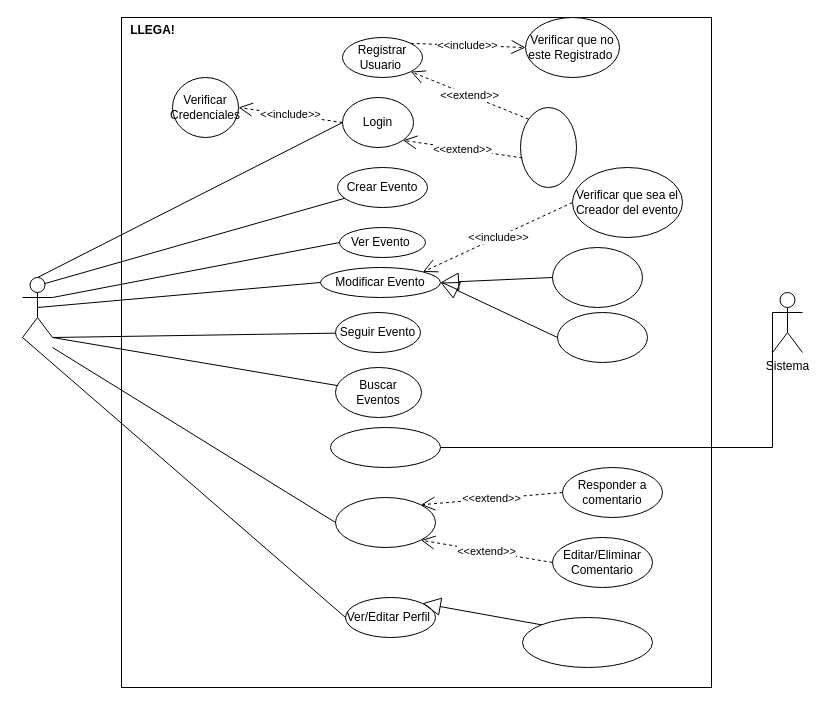
The diagram is 826 pixels wide and 705 high, and some of its shapes have lost their labels. The shapes that lost their labels are listed below. From the top down, each one's centre as x and y in pixels, then its label:
(548,147): Mostrar Mensaje Error
(597,277): Eliminar/Editar Evento
(37,307): Usuario
(602,337): Anadir fotos a evento
(385,447): Notificar Evento
(385,522): Comentar en Evento
(587,642): Comentarios Y eventos Propios del Usuario
